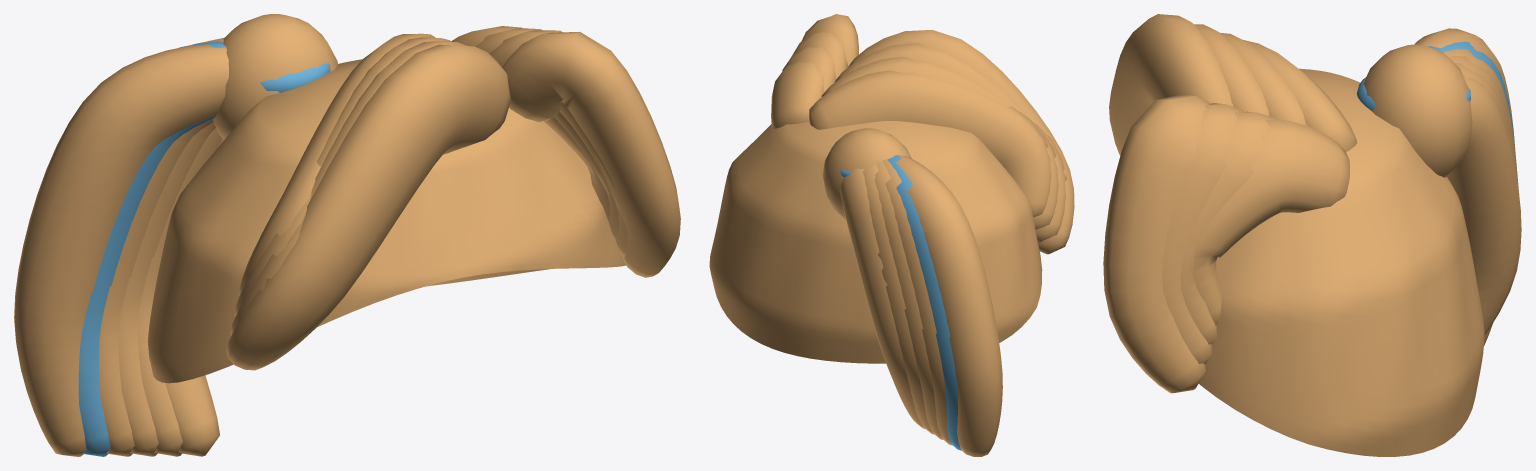
Rendered from studio_ponytail_medium.glb.
3 renders of one model, left to right at view 1: azimuth 30°, elevation 25°; view 2: azimuth 150°, elevation 25°; view 3: azimuth 270°, elevation 25°, orthographic. The views are drawn at different scales.
Visible parts, largest first — view 1: ponytail; view 2: ponytail; view 3: ponytail.
Boxes of the visible parts, <box> form: ponytail: <box>14,14,680,456</box>; ponytail: <box>709,14,1074,456</box>; ponytail: <box>1103,14,1521,456</box>.
Bounding box in the file's own units: 0.5571 × 0.4917 × 0.4179.
